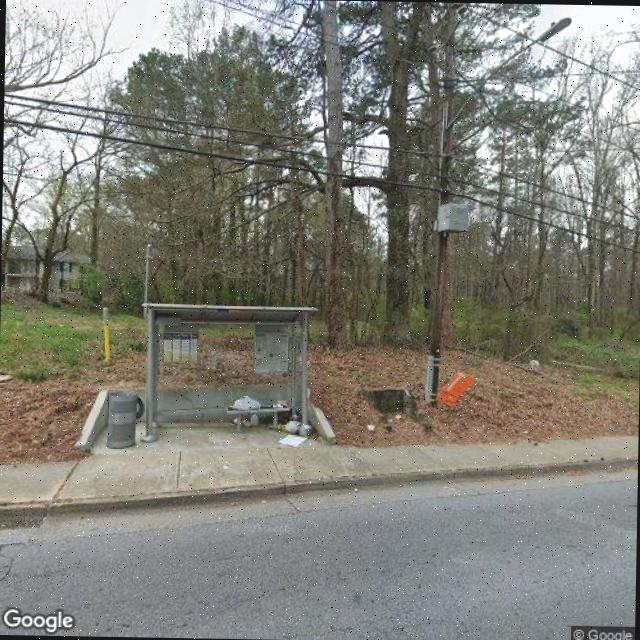seating: (225, 402, 290, 434)
shelter: (138, 302, 318, 448)
trash_can: (106, 390, 137, 450)
